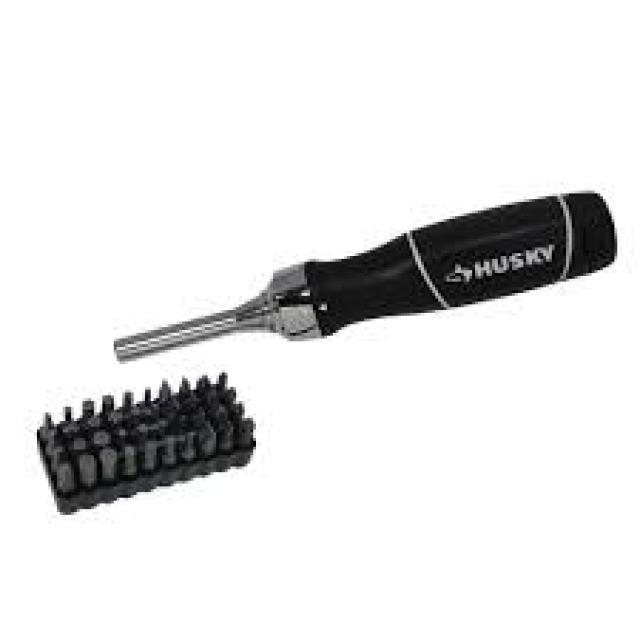screwdriver: (106, 182, 628, 372)
